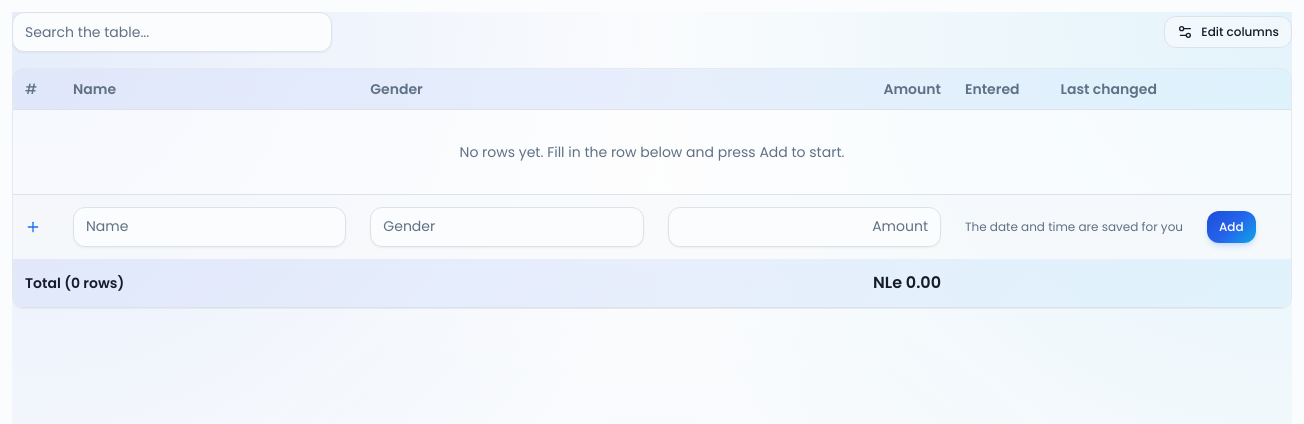
the one-time table › shows the server's reason when a row is refused
Expected: the text "No rows yet. Fill in the row below and press Add to start." is shown, [13, 109, 1291, 194]
Type "Ada" into the field labelled "Name" at {"x": 210, "y": 226}, box [73, 206, 346, 246]
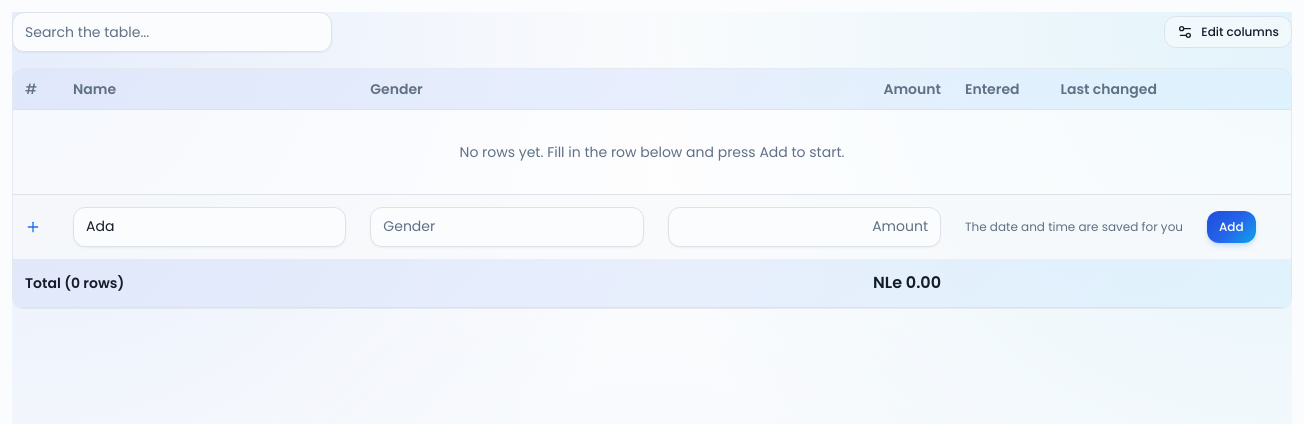
Type "10" into the field labelled "Amount" at {"x": 804, "y": 226}, box [668, 206, 941, 246]
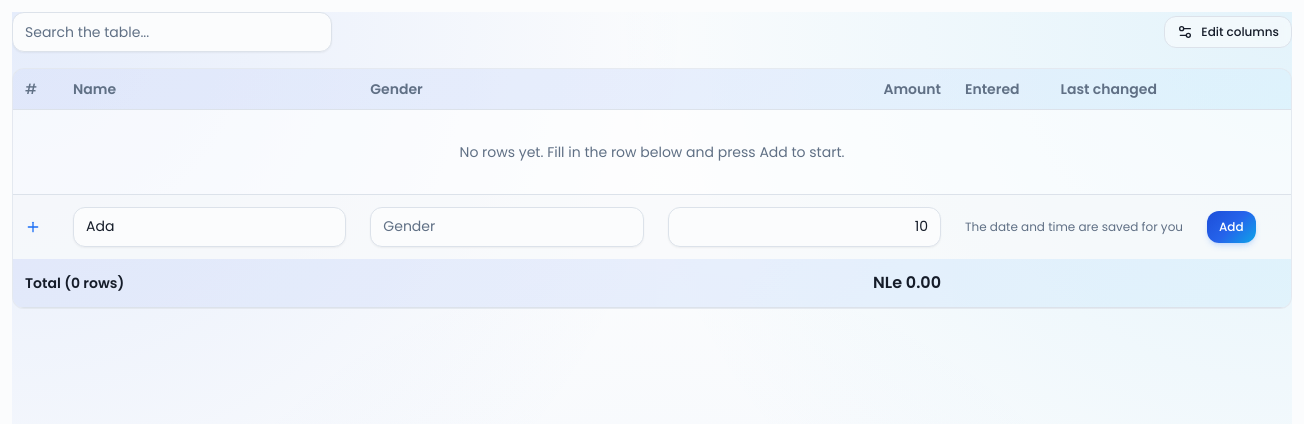
Click the button "Add" at {"x": 1231, "y": 226}, box [1207, 210, 1256, 242]
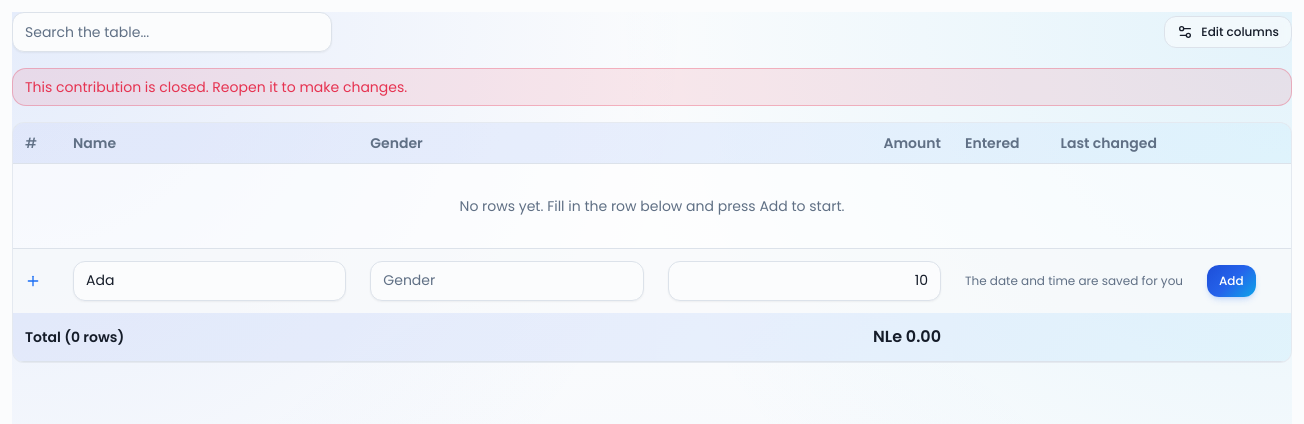
Result: the text "This contribution is closed. Reopen it to make changes." is shown at [12, 68, 1292, 106]
